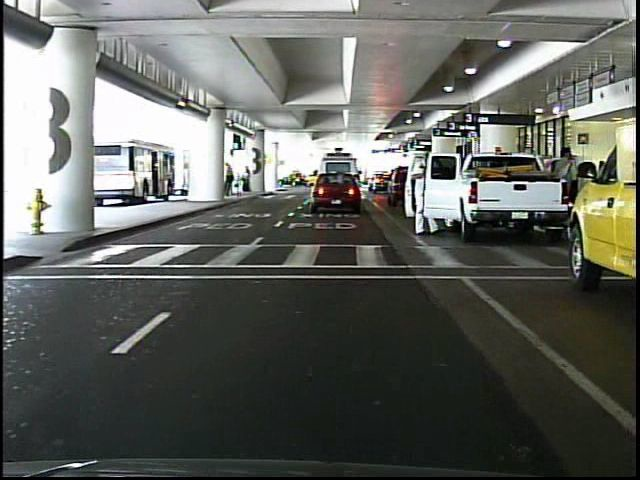person: (408, 145, 443, 238), (547, 142, 582, 221), (241, 164, 255, 195), (225, 162, 237, 198)
